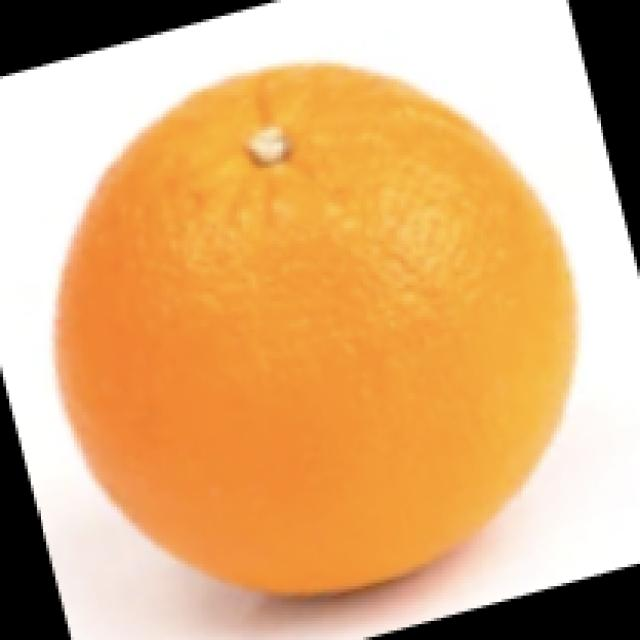matang: (53, 57, 580, 594)
